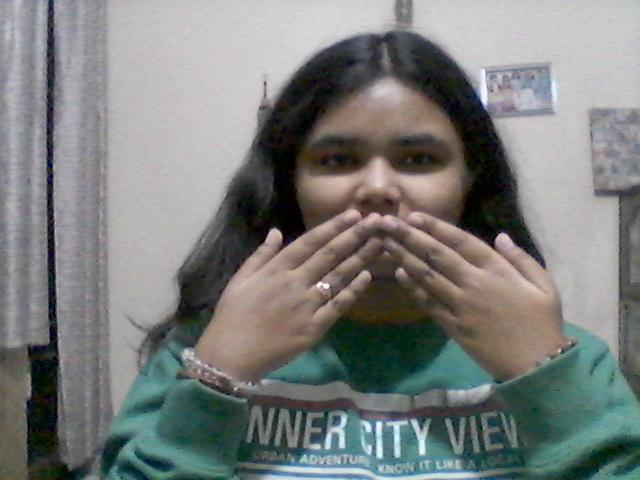thank you: (175, 206, 572, 389)
